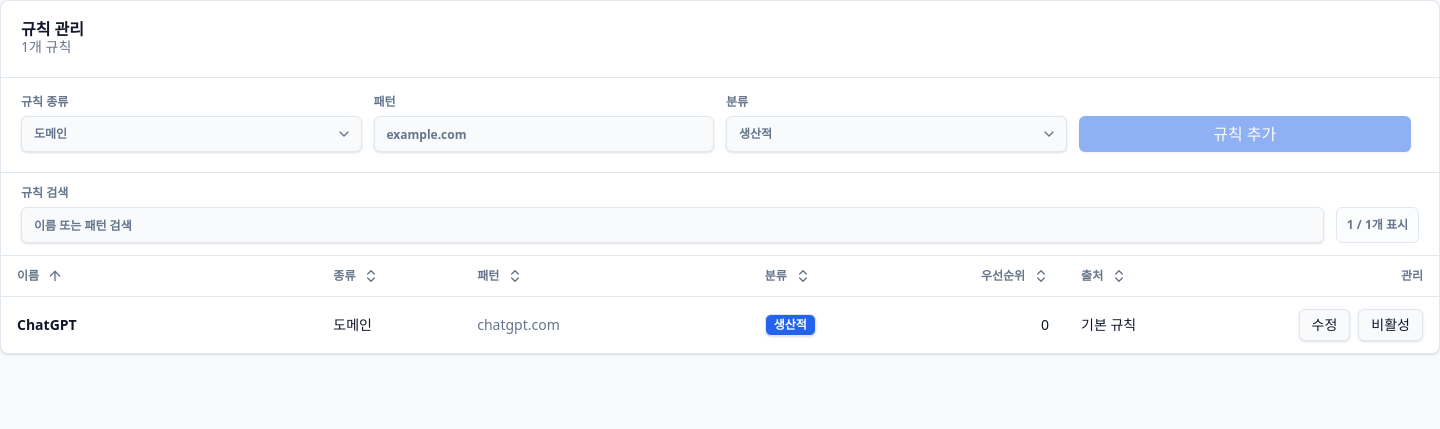
RulesSettings › creates a rule, displays it in sorted order, and clears the pattern field
Check: the text "ChatGPT" is shown, box x1=17 y1=314 x2=77 y2=334
Select "URL 패턴" in the dropdown labelled "규칙 종류" at (191, 134), box x1=21 y1=116 x2=362 y2=152
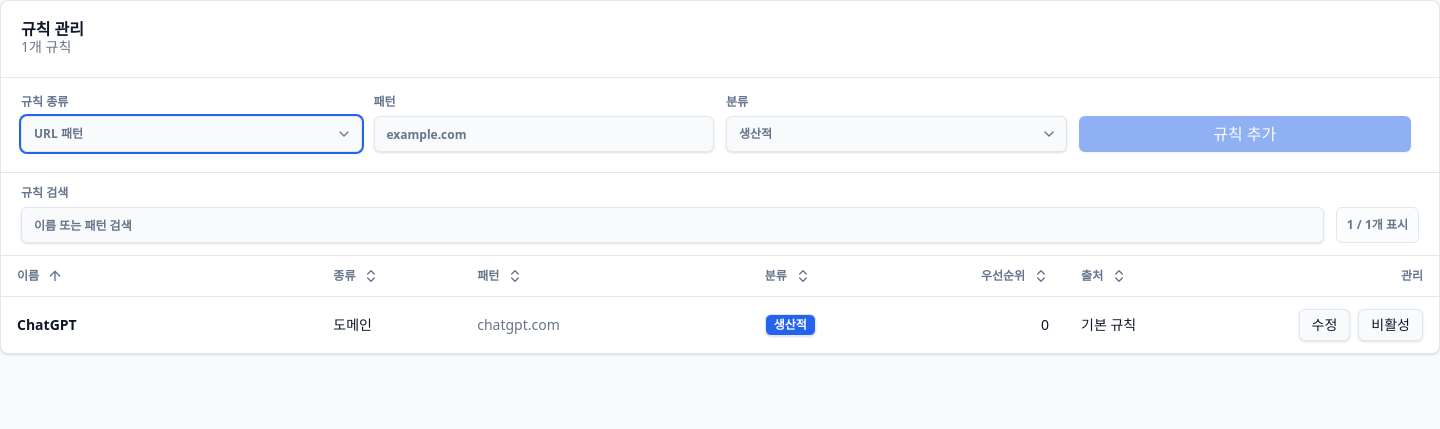
Select "비생산" in the dropdown labelled "분류" at (896, 134), box x1=726 y1=116 x2=1066 y2=152
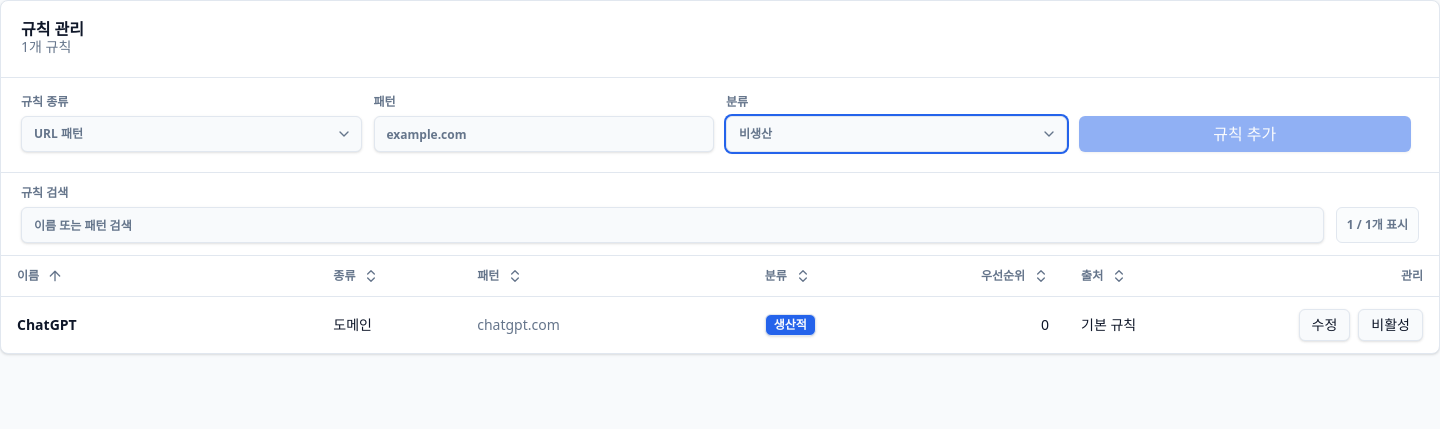
Type "/watch" into the field labelled "패턴" at (544, 134), box x1=374 y1=116 x2=714 y2=152
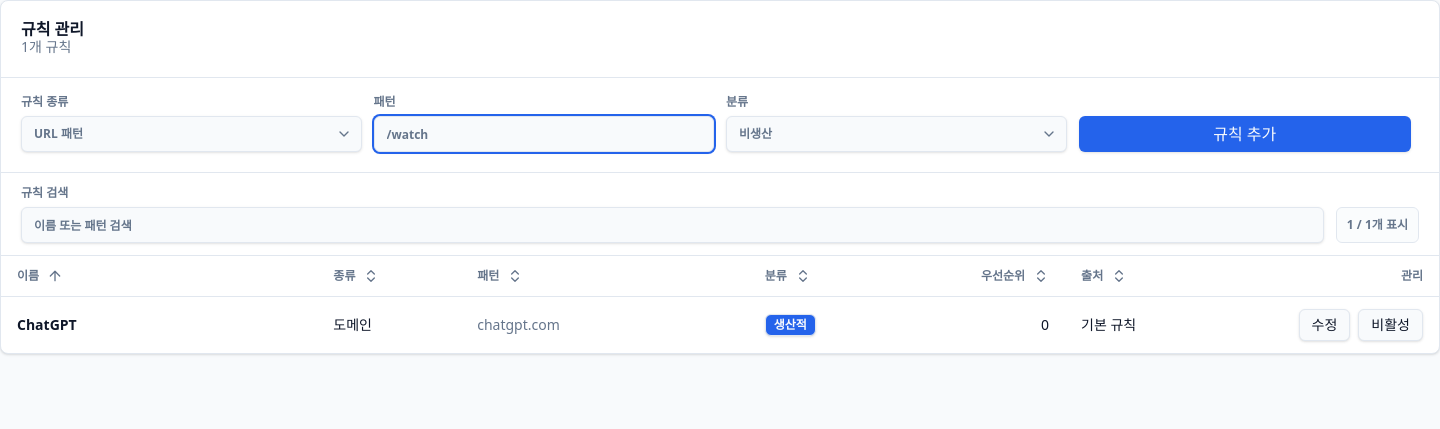
Click the button "규칙 추가" at (1245, 134), box x1=1078 y1=116 x2=1411 y2=152
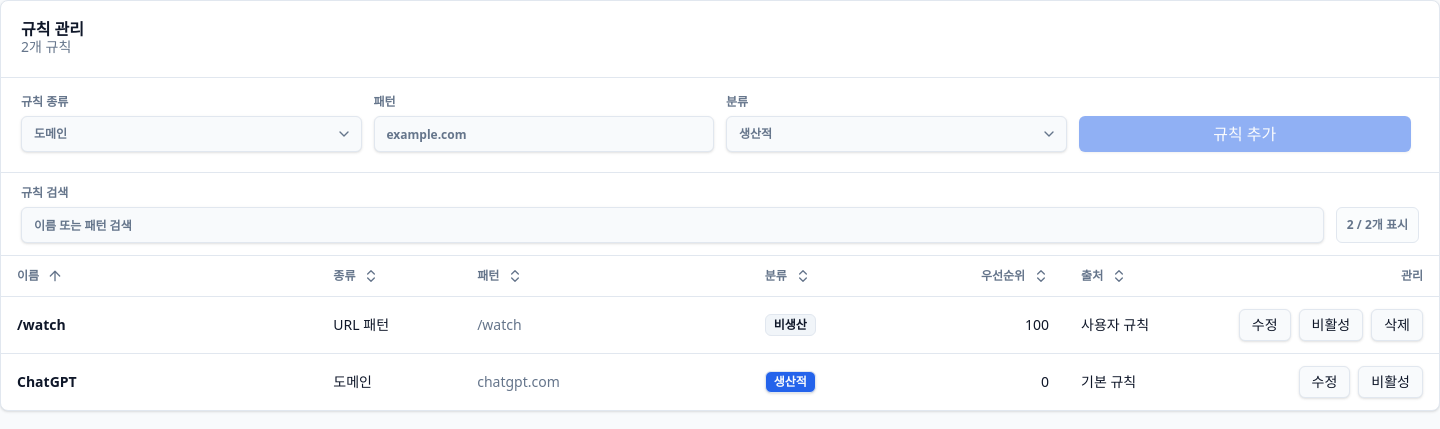
Check: the text "ChatGPT" is shown, box x1=17 y1=372 x2=77 y2=390
Check: the text "/watch" is shown 2 times, box x1=17 y1=314 x2=66 y2=334; x1=477 y1=314 x2=522 y2=334
Check: the field labelled "패턴" is empty, box x1=374 y1=116 x2=714 y2=152
